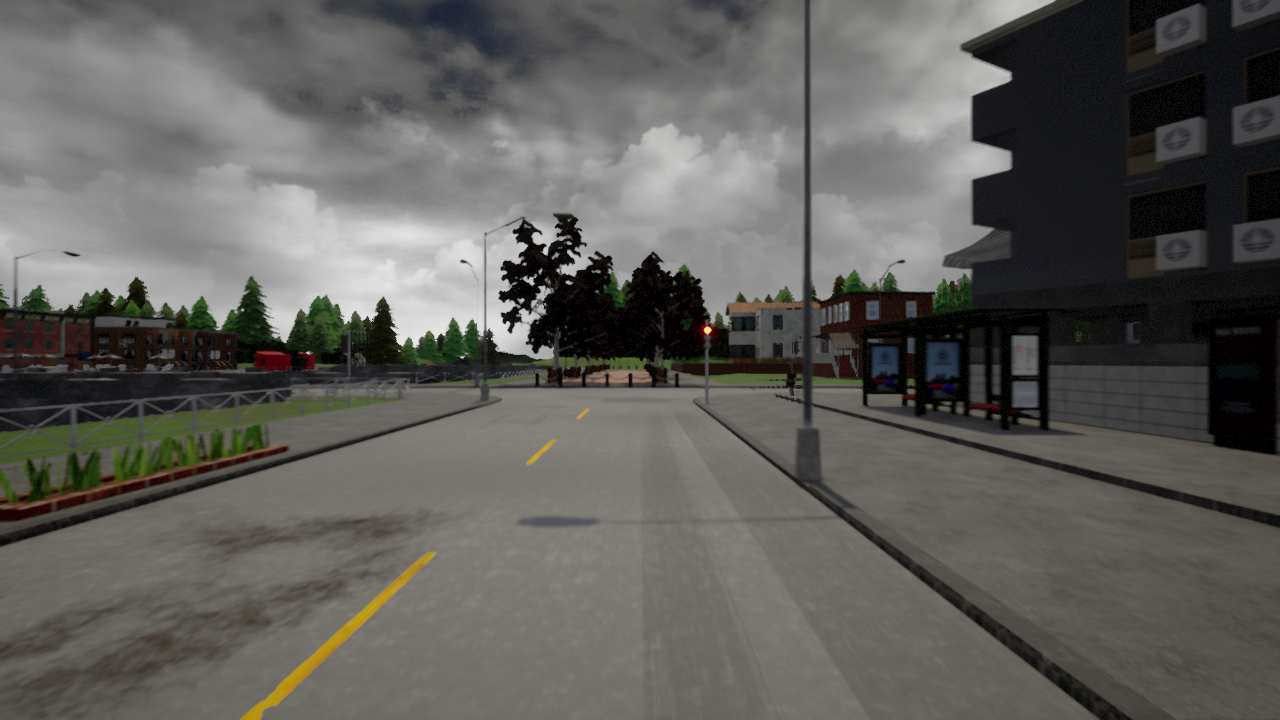red: (704, 324, 713, 350)
